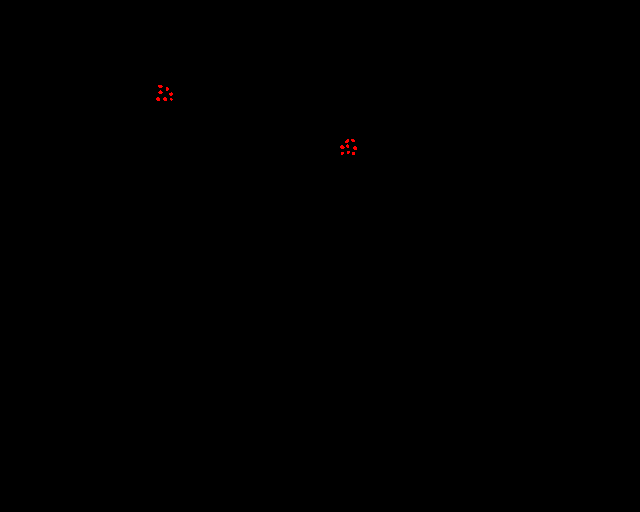Target: (158, 90, 163, 94), (340, 145, 345, 149), (169, 92, 173, 96), (156, 97, 160, 101), (163, 97, 167, 101), (345, 139, 349, 143), (353, 146, 357, 150), (158, 85, 163, 88), (166, 87, 169, 91), (351, 139, 355, 142), (346, 144, 349, 148), (170, 98, 173, 101), (347, 151, 350, 154), (341, 152, 344, 155), (352, 152, 355, 155)
